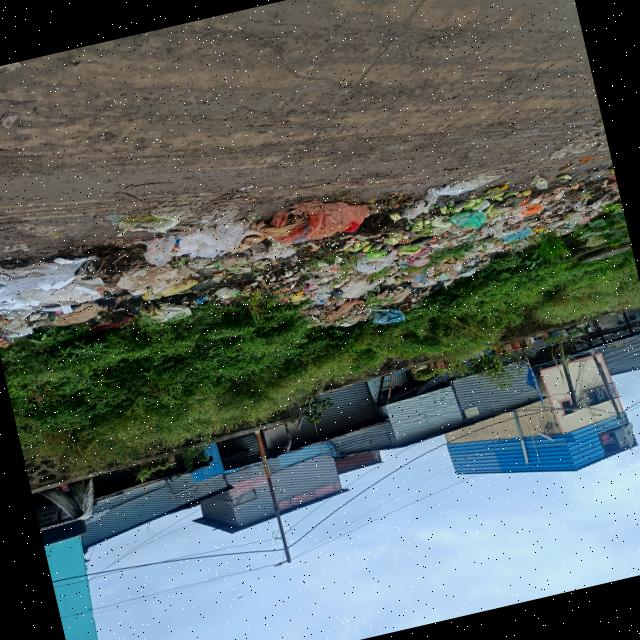garbage: (0, 212, 261, 355), (255, 178, 446, 345), (419, 158, 622, 277)
